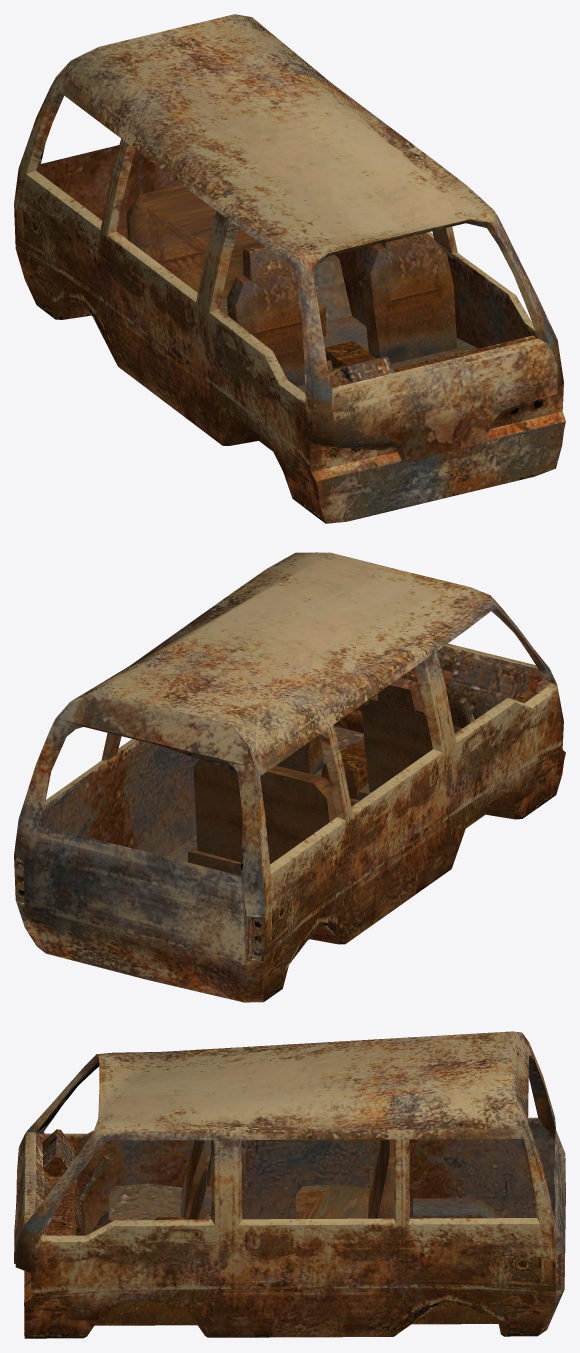
The model's file is Prop_Wj034.glb.
3 renders of one model, top to bottom at view 1: azimuth 30°, elevation 25°; view 2: azimuth 150°, elevation 25°; view 3: azimuth 270°, elevation 25°, orthographic. The views are drawn at different scales.
Parts seen in each view (by area): view 1: xiutz_wj034; view 2: xiutz_wj034; view 3: xiutz_wj034.
Part boxes in pixels (x1,y1,x2,y2): xiutz_wj034: (14, 14, 565, 523); xiutz_wj034: (14, 552, 565, 1002); xiutz_wj034: (14, 1031, 565, 1338).
Bounding box in the file's own units: 2.24 × 2.21 × 4.76.
1 material, 1 textured.
